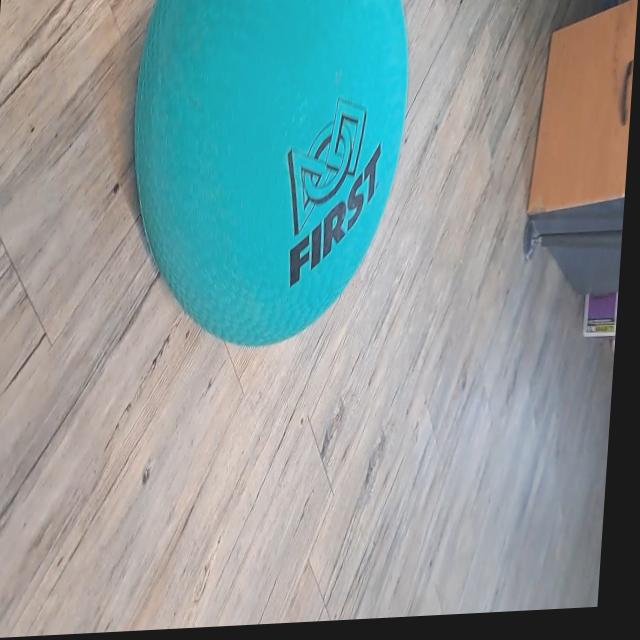ALGAE: (116, 0, 416, 356)
